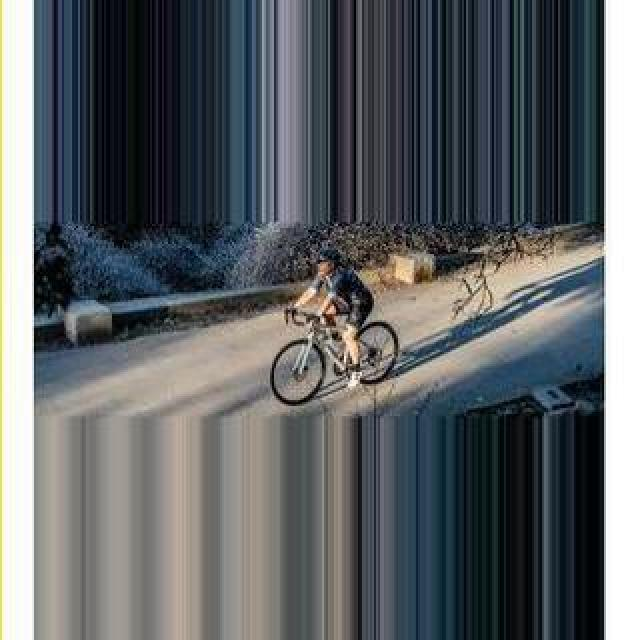MC-Bike: (290, 246, 376, 378)
Person: (269, 306, 401, 408)
